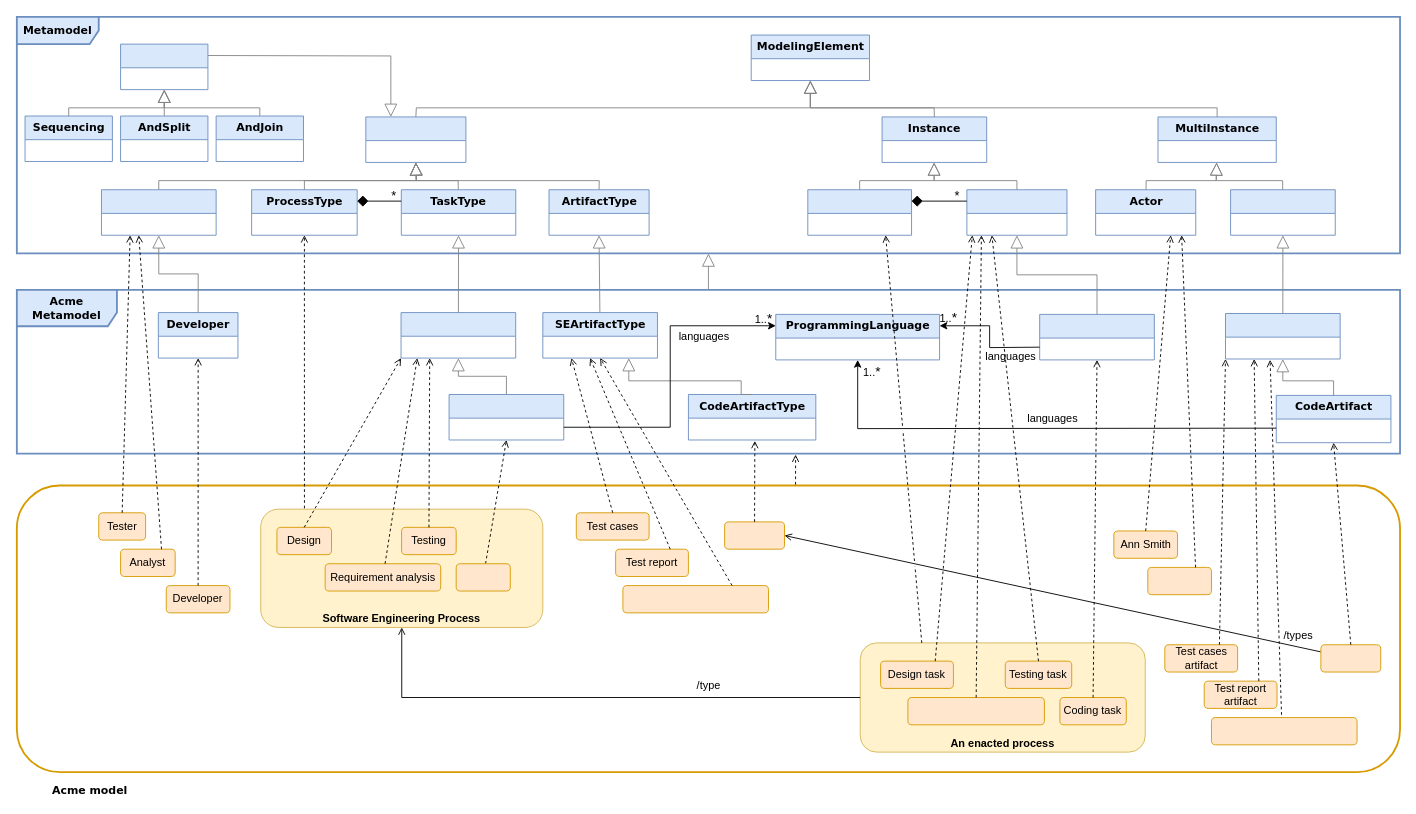
The diagram is 1416 pixels wide and 814 high, and some of its shapes have lost their labels. The shapes that lost their labels are listed below. From the top down, each one's centre as x and y in pixels, then its label:
At [164,66]: "Gateway".
At [415,139]: "Type".
At [158,212]: "ActorType".
At [859,212]: "Process".
At [1016,212]: "Task".
At [1282,212]: "Artifact".
At [458,335]: "SETaskType".
At [1096,336]: "CodingTask".
At [1282,336]: "SEArtifact".
At [506,417]: "CodingTaskType".
At [754,535]: "Code".
At [482,577]: "Coding".
At [1179,580]: "Bob Brown".
At [695,599]: "Requirement specifications".
At [1350,658]: "Code artifact".
At [975,711]: "Requirement analysis task".
At [1284,731]: "Requirement specifications artifact".
